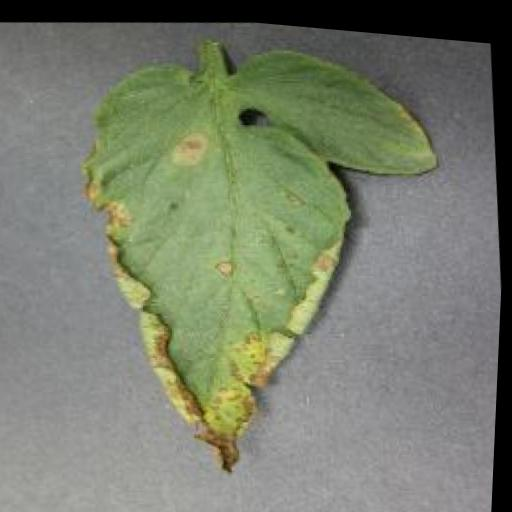Bacterial Spot: (64, 13, 476, 505)
